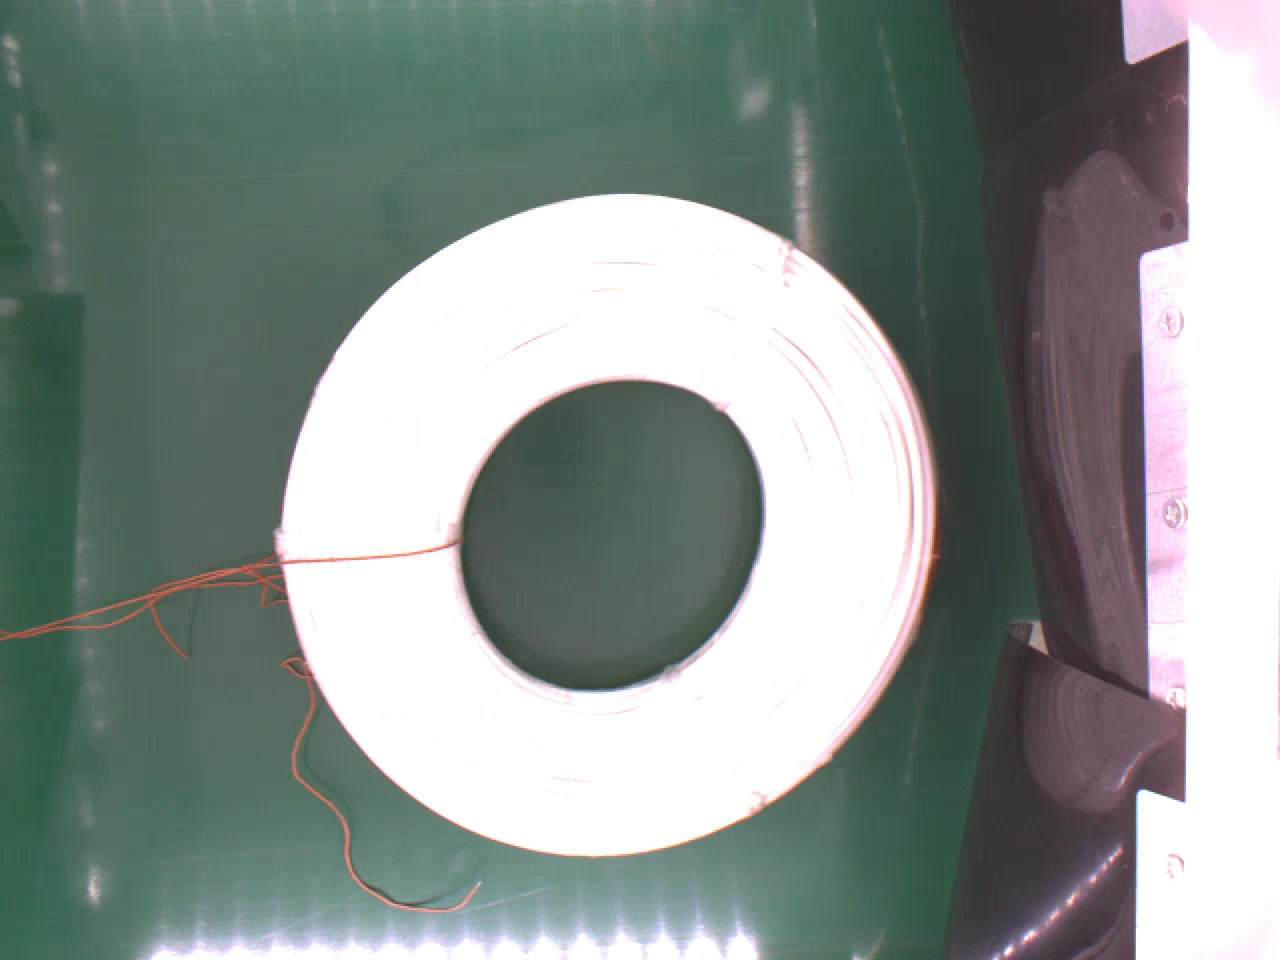white: (272, 188, 950, 860)
